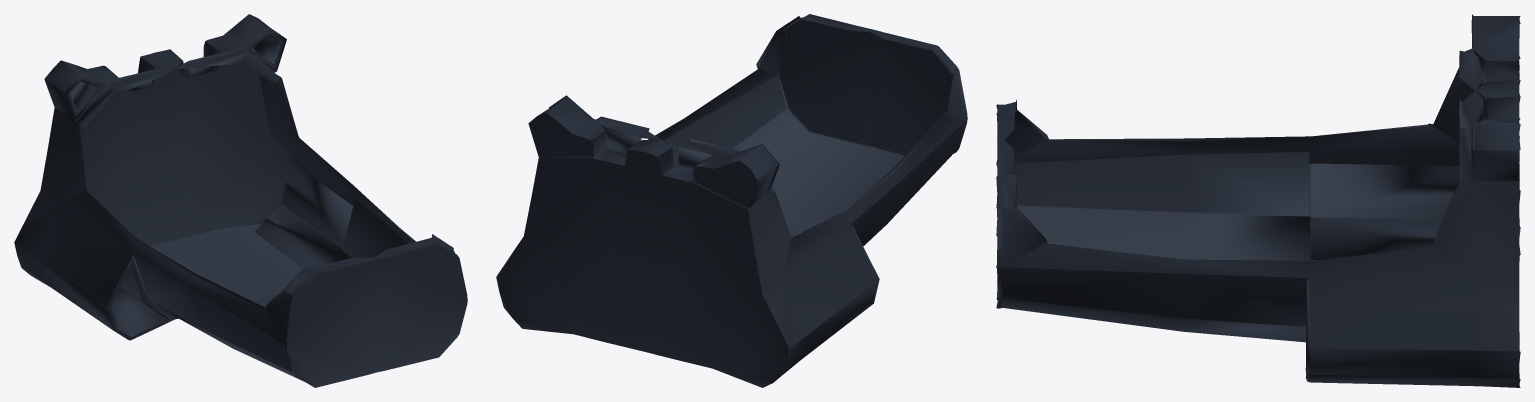
The model's file is Ship_Dart_Fab_Cockpit.fbx.
3 views of the same model, side by side, from view 1: azimuth 30°, elevation 25°; view 2: azimuth 150°, elevation 25°; view 3: azimuth 270°, elevation 25° (orthographic). The views are drawn at different scales.
Visible parts, largest first — view 1: Ship_Dart_Fab_Cockpit; view 2: Ship_Dart_Fab_Cockpit; view 3: Ship_Dart_Fab_Cockpit.
Part boxes in pixels (x1,y1,x2,y2): Ship_Dart_Fab_Cockpit: (14,14,467,387); Ship_Dart_Fab_Cockpit: (496,14,967,387); Ship_Dart_Fab_Cockpit: (996,14,1520,387).
Bounding box in the file's own units: 2.94 × 2.15 × 4.02.
